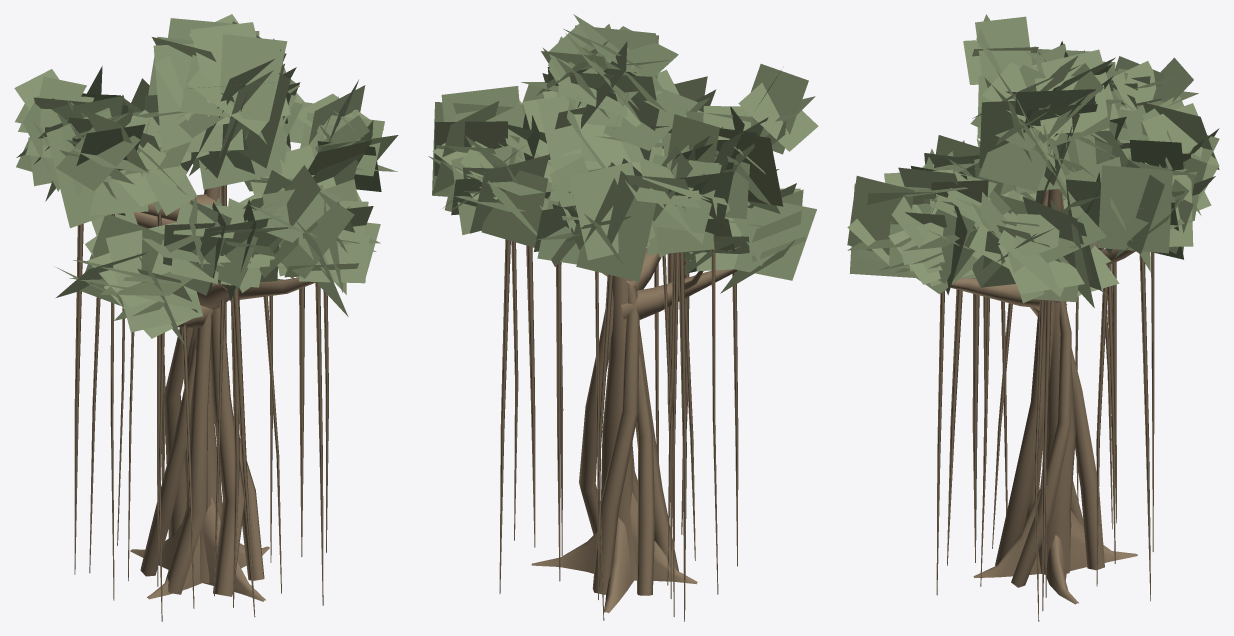
The model's file is big-tree-2_lod1.glb.
3 renders of one model, left to right at view 1: azimuth 30°, elevation 25°; view 2: azimuth 150°, elevation 25°; view 3: azimuth 270°, elevation 25°, orthographic. The views are drawn at different scales.
Parts seen in each view (by area): view 1: big-tree-2 中景 · 绞杀榕; view 2: big-tree-2 中景 · 绞杀榕; view 3: big-tree-2 中景 · 绞杀榕.
Part boxes in pixels (bbox=[...]): big-tree-2 中景 · 绞杀榕: bbox=[14, 14, 398, 621]; big-tree-2 中景 · 绞杀榕: bbox=[428, 14, 818, 621]; big-tree-2 中景 · 绞杀榕: bbox=[847, 14, 1219, 621].
Size of the model in its own units: 39.5 by 60 by 39.5.
